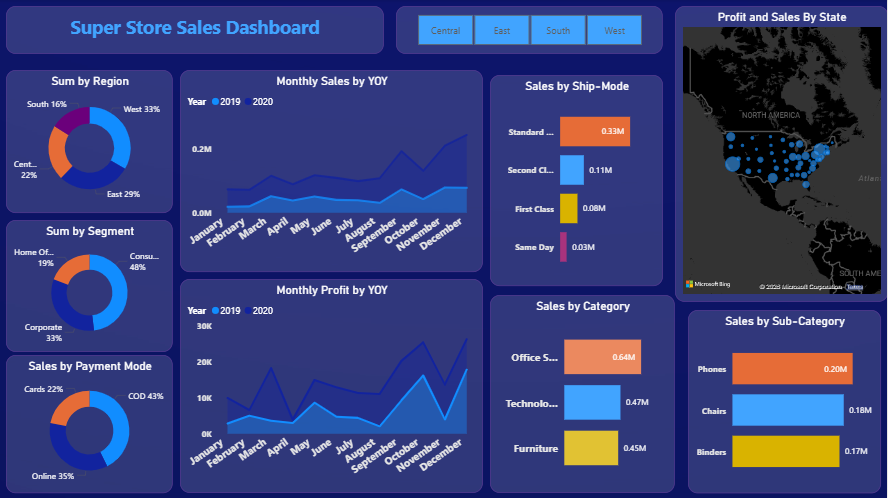

The dashboard page shown, as its layout file describes it:
{"tool":"powerbi","page":{"name":"Page 1","canvas":[1280,720],"ordinal":0},"visuals":[{"type":"clusteredBarChart","title":"Sales by Sub-Category","fields":{"Category":["SuperStore_Sales_Dataset.Sub-Category"],"Y":["Sum(SuperStore_Sales_Dataset.Sales)"]},"box":[992.2,447.8,277.9,263.5],"z":0},{"type":"clusteredBarChart","title":"Sales by Category","fields":{"Category":["SuperStore_Sales_Dataset.Category"],"Y":["Sum(SuperStore_Sales_Dataset.Sales)"]},"box":[707,426.2,266.4,285.1],"z":1000},{"type":"clusteredBarChart","title":"Sales by Ship-Mode","fields":{"Category":["SuperStore_Sales_Dataset.Ship Mode"],"Y":["Sum(SuperStore_Sales_Dataset.Sales)"]},"box":[707,109.4,249.1,303.8],"z":2000},{"type":"stackedAreaChart","title":"Monthly Sales by YOY","fields":{"Y":["Sum(SuperStore_Sales_Dataset.Sales)"],"Category":["SuperStore_Sales_Dataset.Order Date.Variation.Date Hierarchy.Month","SuperStore_Sales_Dataset.Order Date.Variation.Date Hierarchy.Day"],"Series":["SuperStore_Sales_Dataset.Order Date.Variation.Date Hierarchy.Year"]},"box":[260.6,102.2,436.3,290.9],"z":3000},{"type":"stackedAreaChart","title":"Monthly Profit by YOY","fields":{"Category":["SuperStore_Sales_Dataset.Order Date.Variation.Date Hierarchy.Month","SuperStore_Sales_Dataset.Order Date.Variation.Date Hierarchy.Day"],"Series":["SuperStore_Sales_Dataset.Order Date.Variation.Date Hierarchy.Year"],"Y":["Sum(SuperStore_Sales_Dataset.Profit)"]},"box":[260.6,403.2,436.3,308.2],"z":4000},{"type":"map","title":"Profit and Sales By State","fields":{"Category":["SuperStore_Sales_Dataset.State"],"Size":["Sum(SuperStore_Sales_Dataset.Sales)"]},"box":[973.4,10.1,306.7,426.2],"z":5000},{"type":"donutChart","title":"Sum by Segment","fields":{"Category":["SuperStore_Sales_Dataset.Segment"],"Y":["Sum(SuperStore_Sales_Dataset.Sales)"]},"box":[10.1,318.2,240.5,190.1],"z":6000},{"type":"donutChart","title":"Sales by Payment Mode","fields":{"Category":["SuperStore_Sales_Dataset.Payment Mode"],"Y":["Sum(SuperStore_Sales_Dataset.Sales)"]},"box":[10.1,512.6,240.5,198.7],"z":7000},{"type":"slicer","fields":{"Values":["SuperStore_Sales_Dataset.Region"]},"box":[571.7,10.1,384.5,69.1],"z":8000},{"type":"textbox","box":[10.1,10.1,544.3,69.1],"z":9000},{"type":"donutChart","title":"Sum by Region","fields":{"Category":["SuperStore_Sales_Dataset.Region"],"Y":["Sum(SuperStore_Sales_Dataset.Sales)"]},"box":[10.1,102.2,240.5,205.9],"z":9001}]}

Visuals, with their boxes in screenshot pixels (x1, y1, x2, y2), scaled from the page's 1280x720 canvas onto the 888x498 screenshot:
"Sales by Sub-Category" clusteredBarChart: 688/310/881/492
"Sales by Category" clusteredBarChart: 490/295/675/492
"Sales by Ship-Mode" clusteredBarChart: 490/76/663/286
"Monthly Sales by YOY" stackedAreaChart: 181/71/483/272
"Monthly Profit by YOY" stackedAreaChart: 181/279/483/492
"Profit and Sales By State" map: 675/7/887/302
"Sum by Segment" donutChart: 7/220/174/352
"Sales by Payment Mode" donutChart: 7/355/174/492
slicer - SuperStore_Sales_Dataset.Region: 397/7/663/55
textbox: 7/7/385/55
"Sum by Region" donutChart: 7/71/174/213
